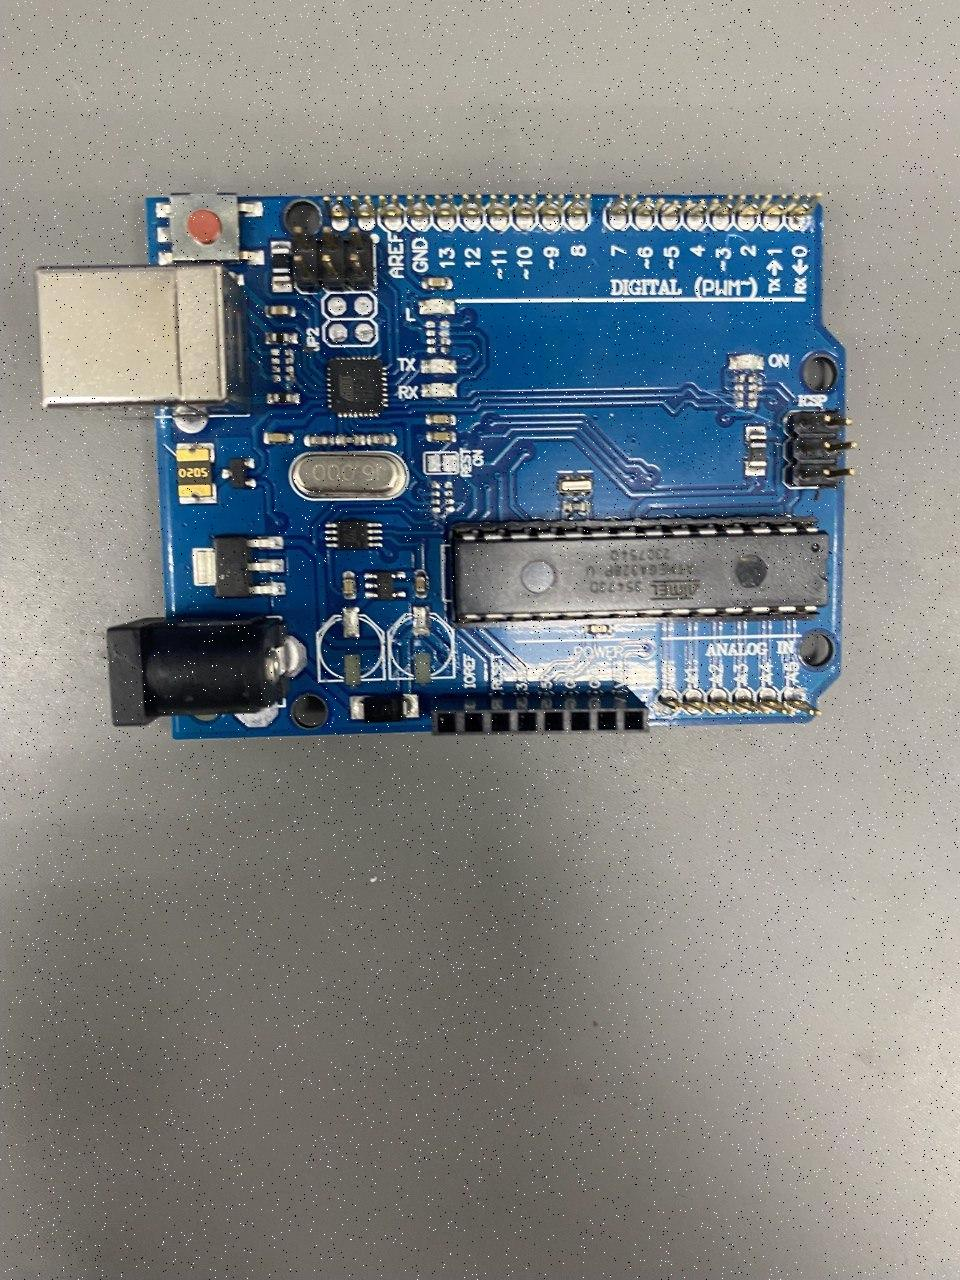ATmega328 chip: (451, 515, 827, 629)
Arduino board: (33, 190, 855, 740)
USB: (34, 264, 250, 421)
pins: (432, 687, 649, 737)
